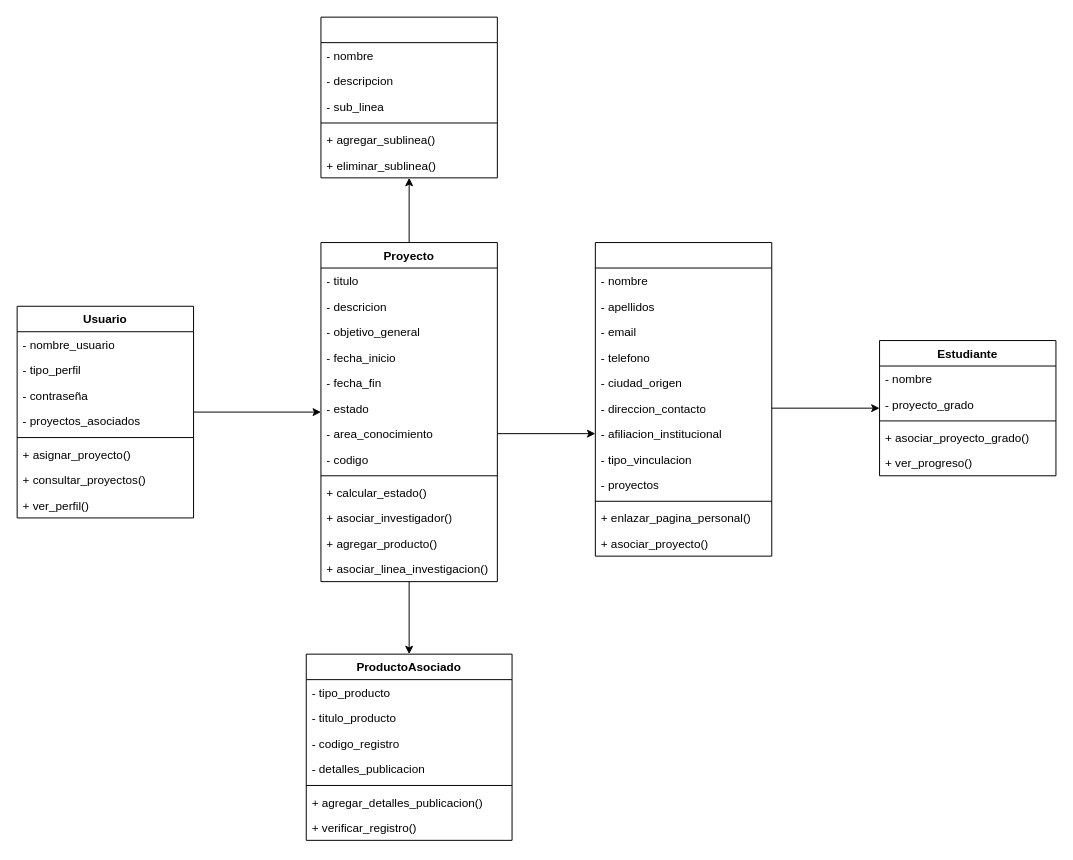
This 1073x860 diagram has some shape labels left out. Each missing label, with the box of its shape:
Investigador: (594, 242, 772, 556)
LineaDeInvestigacion: (320, 16, 497, 178)
